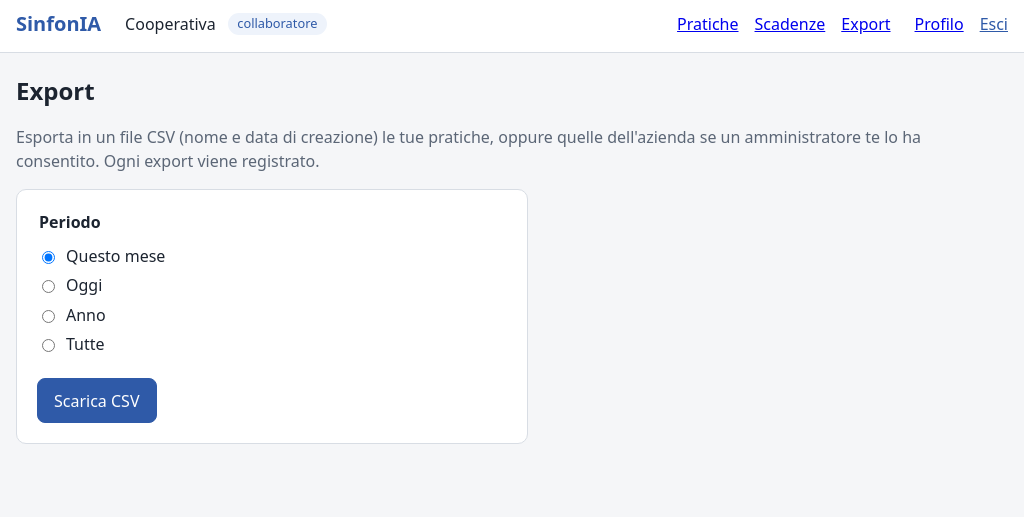
export (FE3) › says when there is nothing to export, without a file
This screenshot has width=1024, height=517.
What coordinates should you click on to do the following:
click the button "Scarica CSV"
I would click on:
 (97, 401)
Its box is [37,378,156,423].
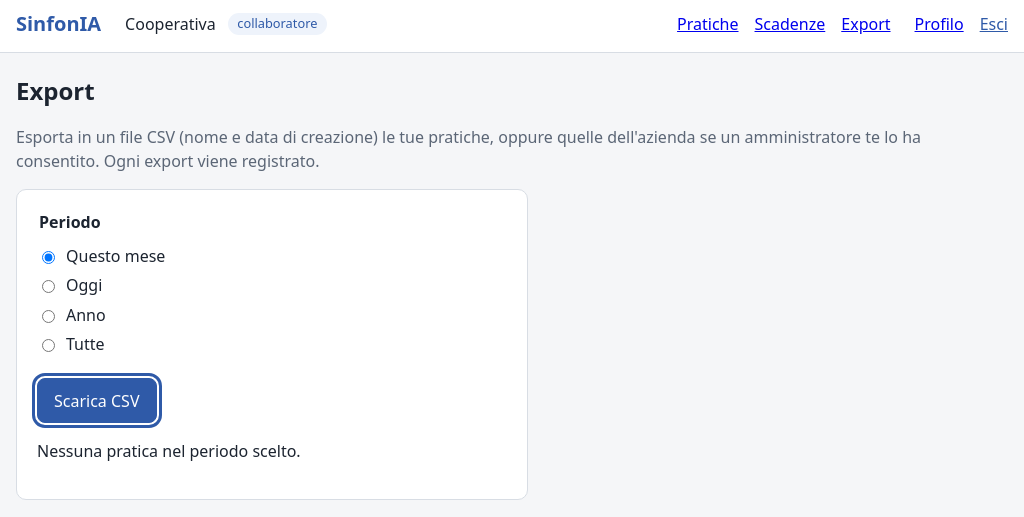
Check: the text "Nessuna pratica nel periodo scelto." is shown, box [37,440,301,462]
